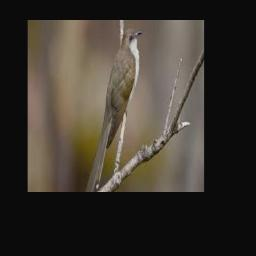Cuckoo: (86, 28, 144, 192)
